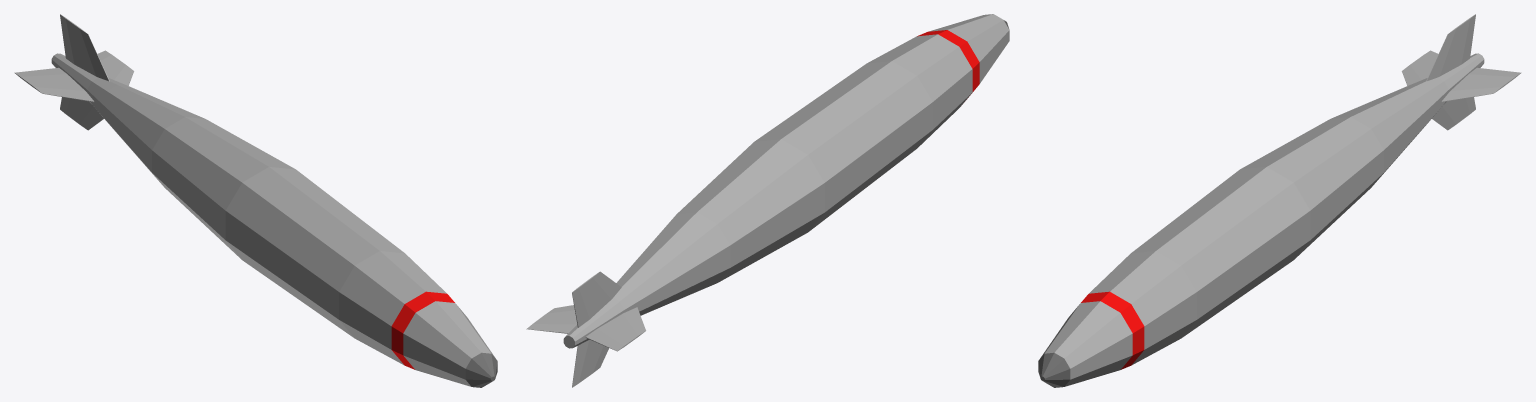
Rendered from SM_bomb02.fbx.
3 views of the same model, side by side, from view 1: azimuth 30°, elevation 25°; view 2: azimuth 150°, elevation 25°; view 3: azimuth 330°, elevation 25° (orthographic).
Visible parts, largest first — view 1: Cylinder; view 2: Cylinder; view 3: Cylinder.
Part boxes in pixels (box(x1,y1,x2,y2)): Cylinder: box(14, 14, 497, 387); Cylinder: box(526, 14, 1009, 387); Cylinder: box(1038, 14, 1521, 387).
Bounding box in the file's own units: 26.81 × 26.81 × 220.
